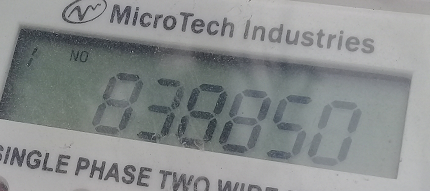digit: (86, 68, 143, 141), (308, 91, 360, 168), (178, 73, 223, 149), (226, 79, 268, 155), (140, 70, 183, 142), (272, 82, 310, 160)
